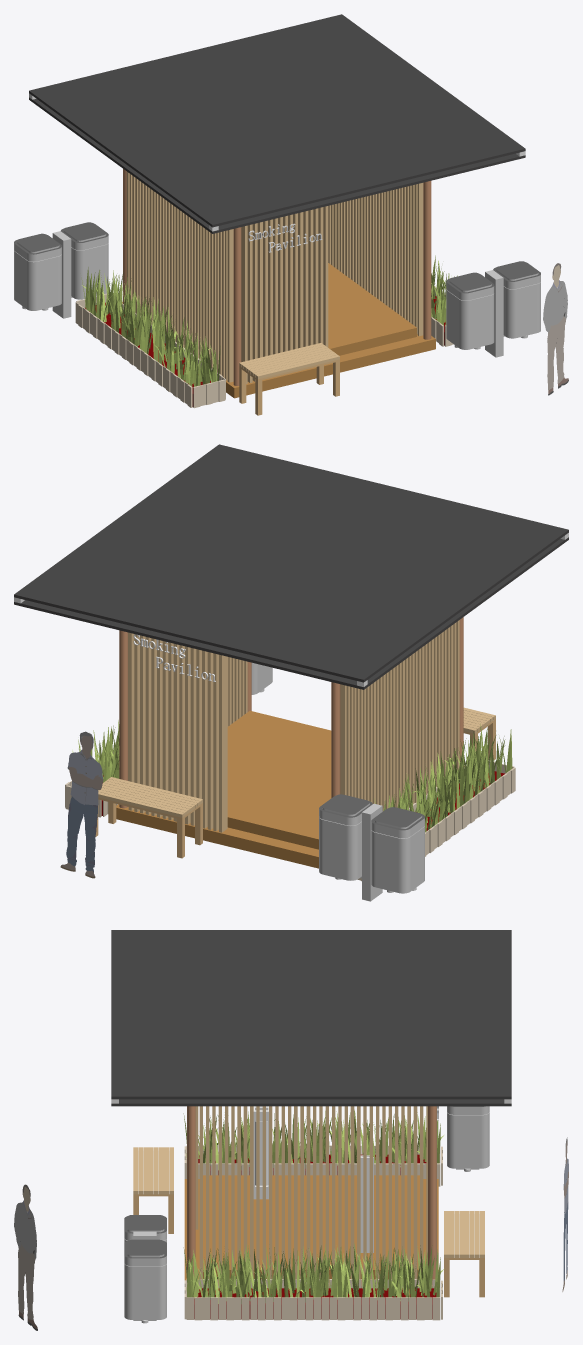
File: smoking_pavilion_-.glb
The picture shows the model from 3 angles, top to bottom: view 1: azimuth 30°, elevation 25°; view 2: azimuth 150°, elevation 25°; view 3: azimuth 270°, elevation 25°; orthographic projection. The views are drawn at different scales.
Parts seen in each view (by area): view 1: Model, Group1, Group10, Group101, Group103, Group195, Group183, Group9, Group192, Group189, Derrick1, Group16 (+4 smaller); view 2: Model, Group1, Group11, Group101, Group183, Group189, Group9, Group103, Group14, Group13, Group102, Group21 (+3 smaller); view 3: Model, Group1, Group21, Group23, Group101, Group192, Group22, Group9, Group189, Derrick1, Group16, Group14 (+9 smaller).
Boxes of the visible parts, bbox=[...] form: Model: bbox=[22, 14, 527, 398]; Group1: bbox=[126, 171, 423, 382]; Group10: bbox=[241, 206, 328, 383]; Group101: bbox=[81, 267, 220, 386]; Group103: bbox=[75, 293, 225, 408]; Group195: bbox=[446, 272, 494, 349]; Group183: bbox=[14, 233, 61, 310]; Group9: bbox=[123, 169, 431, 385]; Group192: bbox=[493, 261, 540, 338]; Group189: bbox=[61, 222, 108, 299]; Derrick1: bbox=[543, 263, 568, 395]; Group16: bbox=[239, 343, 339, 379]; Model: bbox=[14, 444, 568, 901]; Group1: bbox=[128, 620, 459, 811]; Group11: bbox=[128, 632, 227, 832]; Group101: bbox=[370, 723, 512, 832]; Group183: bbox=[371, 807, 424, 893]; Group189: bbox=[319, 794, 372, 880]; Group9: bbox=[119, 617, 463, 808]; Group103: bbox=[357, 761, 515, 881]; Group14: bbox=[98, 777, 202, 817]; Group13: bbox=[95, 797, 202, 858]; Group102: bbox=[384, 741, 472, 812]; Group21: bbox=[78, 720, 119, 782]; Model: bbox=[111, 930, 568, 1323]; Group1: bbox=[199, 1106, 423, 1285]; Group21: bbox=[183, 1243, 440, 1303]; Group23: bbox=[184, 1279, 442, 1320]; Group101: bbox=[183, 1110, 440, 1169]; Group192: bbox=[124, 1239, 166, 1319]; Group22: bbox=[213, 1249, 443, 1303]; Group9: bbox=[187, 1106, 436, 1284]; Group189: bbox=[447, 1106, 489, 1168]; Derrick1: bbox=[14, 1184, 37, 1330]; Group16: bbox=[133, 1147, 173, 1194]; Group14: bbox=[444, 1211, 484, 1257].
Size of the model in its own units: 5288 by 2933 by 6383.
